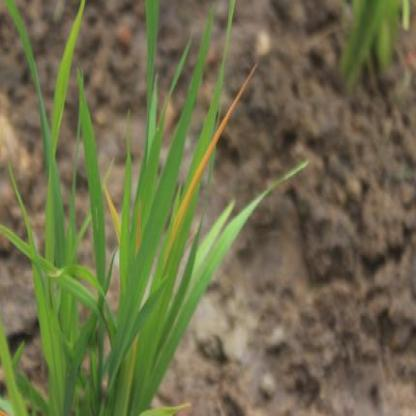Tungro: (119, 67, 263, 348)
